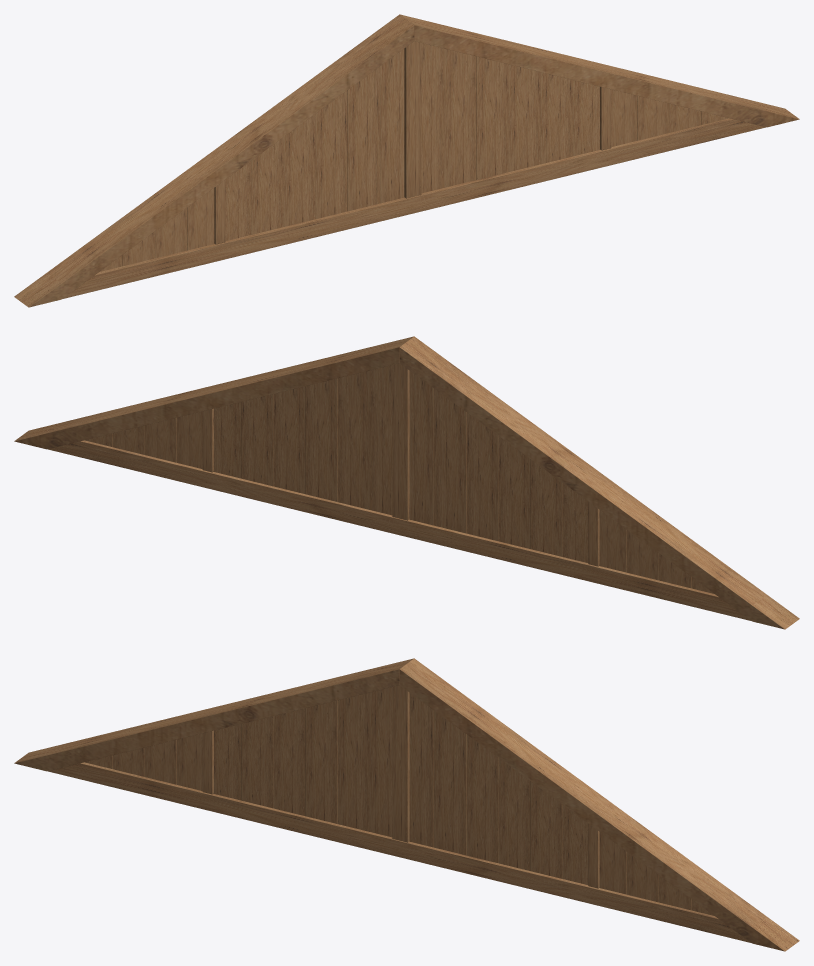
The model's file is SM_FacilityRooms_WoodGable600.fbx.
3 renders of one model, top to bottom at view 1: azimuth 30°, elevation 25°; view 2: azimuth 150°, elevation 25°; view 3: azimuth 330°, elevation 25°, orthographic.
Visible parts, largest first — view 1: SM_FacilityRooms_WoodGable600; view 2: SM_FacilityRooms_WoodGable600; view 3: SM_FacilityRooms_WoodGable600.
Part boxes in pixels (<box>): SM_FacilityRooms_WoodGable600: <box>14,14,799,307</box>; SM_FacilityRooms_WoodGable600: <box>14,336,799,629</box>; SM_FacilityRooms_WoodGable600: <box>14,658,799,951</box>.
Size of what is drawn, in the model's own units: 600 by 20 by 140.
